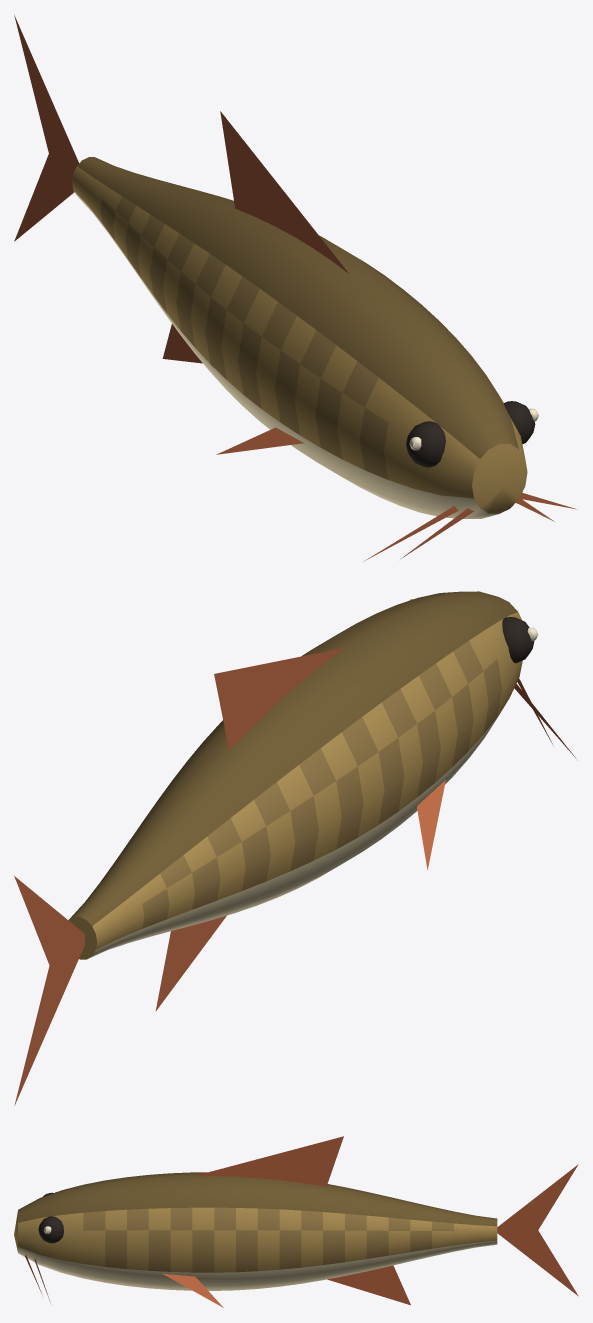
Rendered from barbel.fbx.
3 views of the same model, one above another, from view 1: azimuth 30°, elevation 25°; view 2: azimuth 150°, elevation 25°; view 3: azimuth 270°, elevation 25° (orthographic). The views are drawn at different scales.
Parts seen in each view (by area): view 1: Fish_barbel_EXP; view 2: Fish_barbel_EXP; view 3: Fish_barbel_EXP.
Part boxes in pixels (x1,y1,x2,y2): Fish_barbel_EXP: (14,15,577,561); Fish_barbel_EXP: (14,591,577,1105); Fish_barbel_EXP: (14,1136,578,1307).
Bounding box in the file's own units: 0.1836 × 0.2338 × 0.7071.
